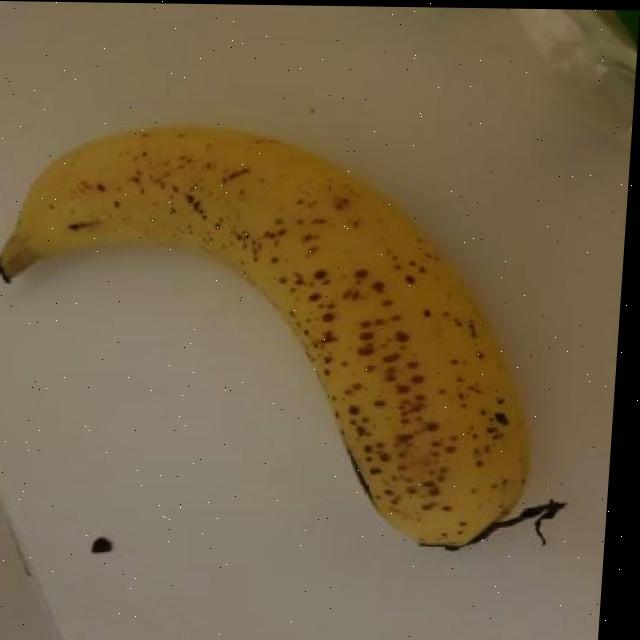banana: (0, 115, 582, 557)
